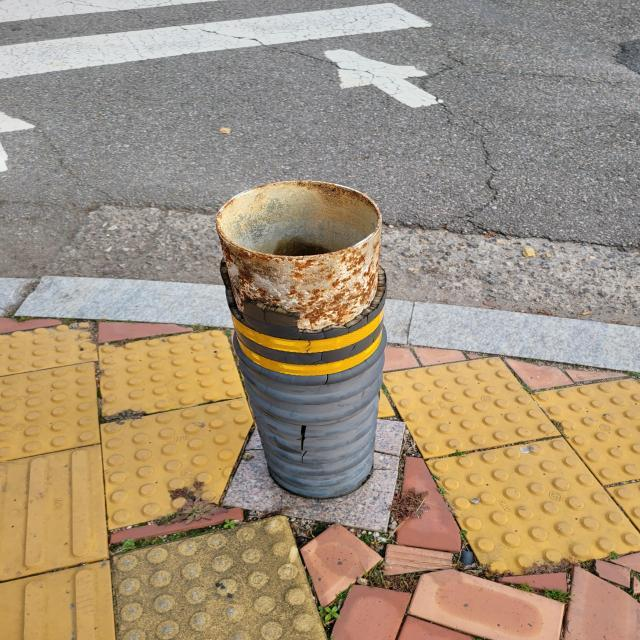pole: (212, 177, 394, 508)
